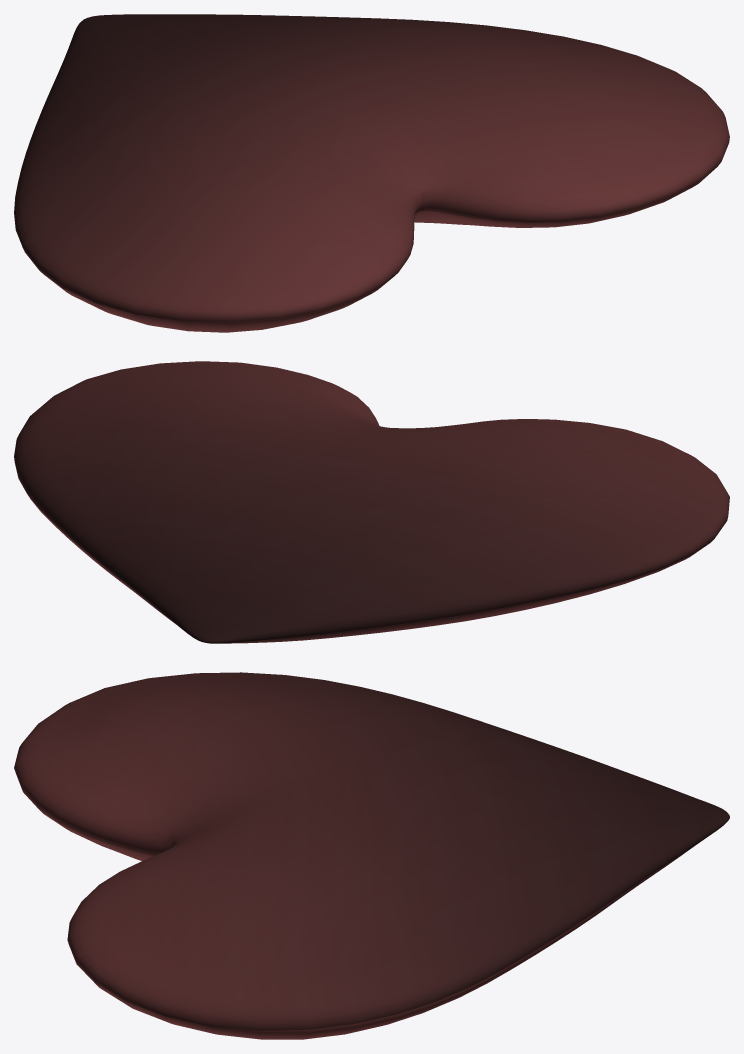
Rendered from heart.glb.
3 views of the same model, one above another, from view 1: azimuth 30°, elevation 25°; view 2: azimuth 150°, elevation 25°; view 3: azimuth 270°, elevation 25° (orthographic). The views are drawn at different scales.
Parts seen in each view (by area): view 1: cc_t_heart4; view 2: cc_t_heart4; view 3: cc_t_heart4.
Part boxes in pixels (left/top/right/bottom): cc_t_heart4: left=14, top=14, right=729, bottom=332; cc_t_heart4: left=14, top=361, right=729, bottom=643; cc_t_heart4: left=14, top=672, right=729, bottom=1039.
Size of the model in its own units: 0.0714 by 0.0139 by 0.063.
1 material, 1 textured.
